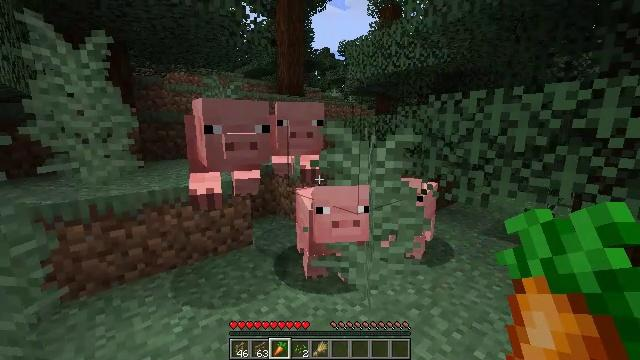pig: (189, 99, 276, 196), (295, 187, 368, 285), (276, 101, 325, 172)
